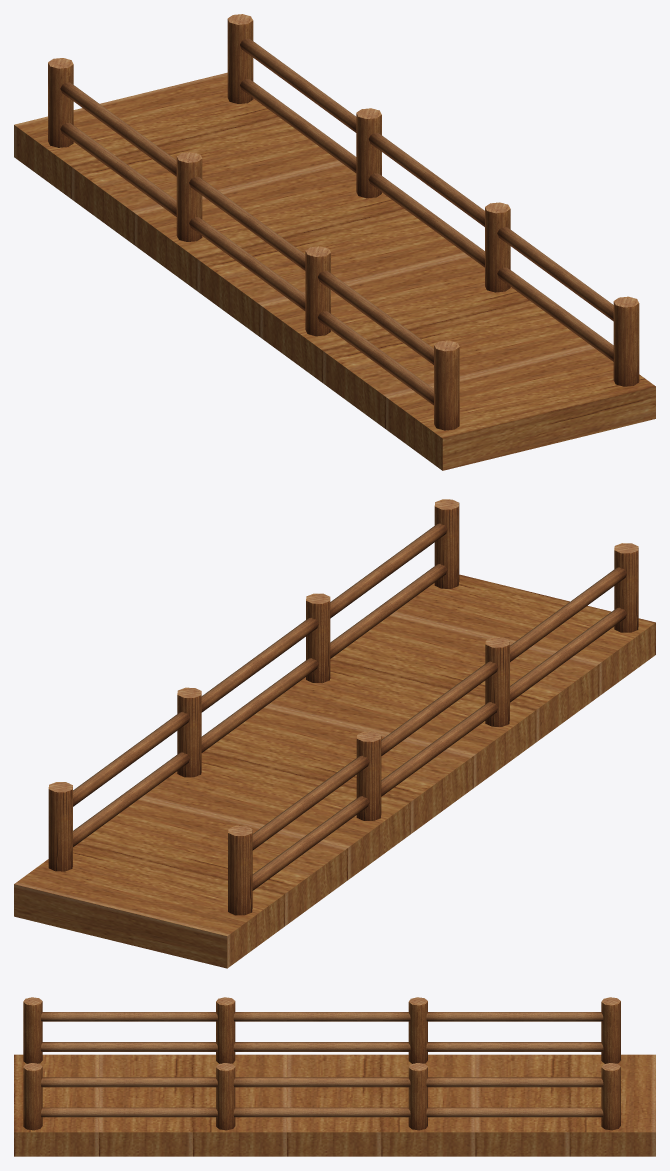
File: Bridge_Small.FBX
3 renders of one model, top to bottom at view 1: azimuth 30°, elevation 25°; view 2: azimuth 150°, elevation 25°; view 3: azimuth 270°, elevation 25°, orthographic. The views are drawn at different scales.
Parts seen in each view (by area): view 1: Bridge, Fence; view 2: Bridge, Fence; view 3: Bridge, Fence.
Part boxes in pixels (x1,y1,x2,y2): Bridge: [14, 72, 655, 470]; Fence: [48, 14, 639, 430]; Bridge: [14, 574, 655, 968]; Fence: [48, 499, 638, 915]; Bridge: [14, 1054, 655, 1156]; Fence: [23, 997, 620, 1130].
Size of the model in its own units: 2.19 by 1.09 by 7.62.
